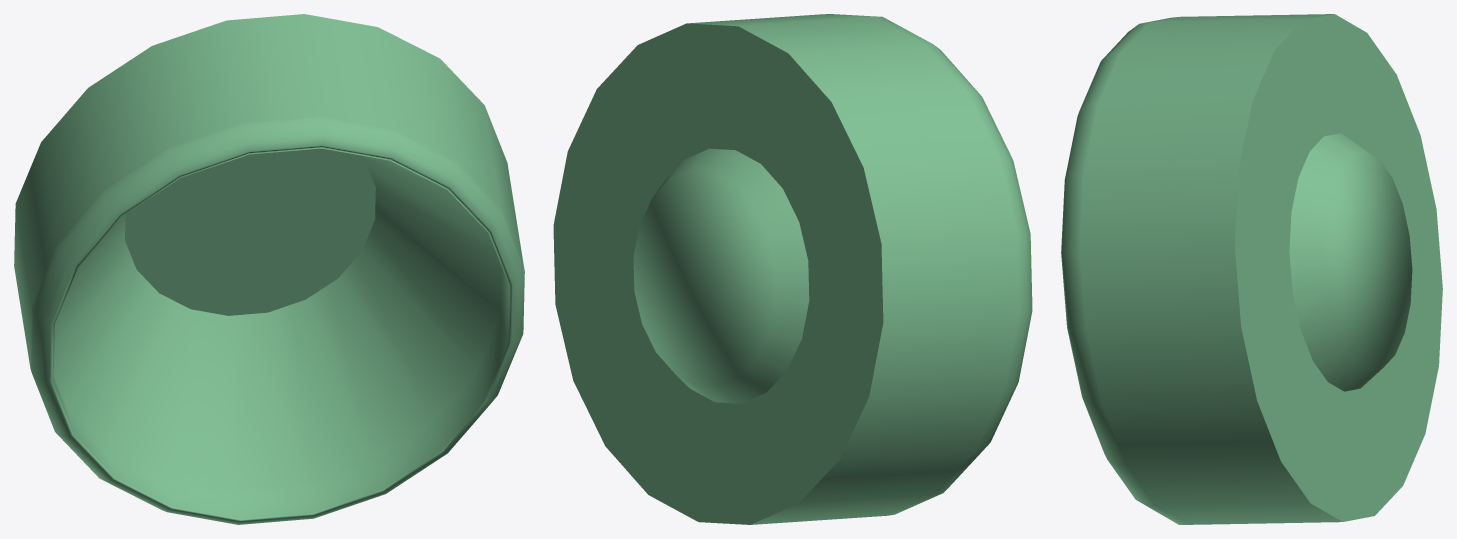
The model's file is BL2_8shapes_Round_Classic_Metal.001 2.glb.
3 renders of one model, left to right at view 1: azimuth 30°, elevation 25°; view 2: azimuth 150°, elevation 25°; view 3: azimuth 270°, elevation 25°, orthographic.
Visible parts, largest first — view 1: BL2_8shapes_Round_Classic_Metal.001; view 2: BL2_8shapes_Round_Classic_Metal.001; view 3: BL2_8shapes_Round_Classic_Metal.001.
Boxes of the visible parts, left/top/right/bottom form: BL2_8shapes_Round_Classic_Metal.001: left=14, top=14, right=524, bottom=524; BL2_8shapes_Round_Classic_Metal.001: left=553, top=14, right=1032, bottom=524; BL2_8shapes_Round_Classic_Metal.001: left=1061, top=14, right=1442, bottom=524.
Size of the model in its own units: 0.5261 by 0.5061 by 0.364.
